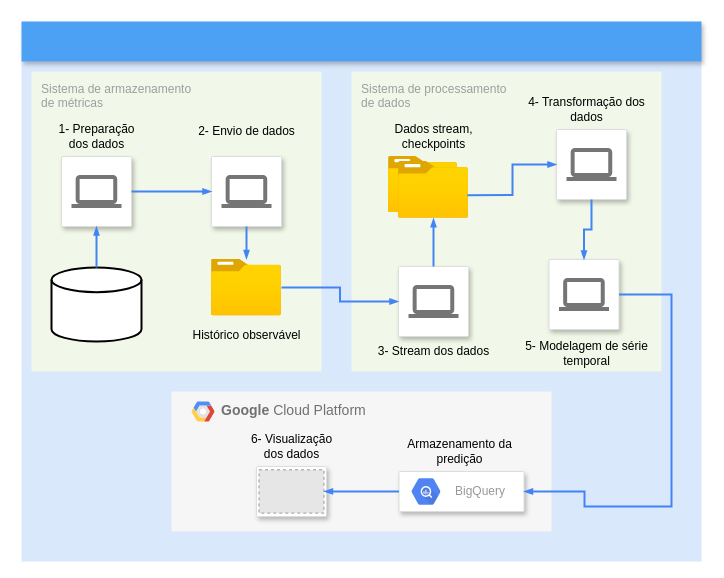
Some shapes in this 724 by 578 pixel diagram are drawn without their labels. Grey dashed boxes stand in for pictures. The centre of each missing label's shape, as x and y in pixels:
"Arquitetura - Predição de consumo de energia PJM" belongs at point 362,42.
"PJM Interconnection LLC" belongs at point 96,304.
